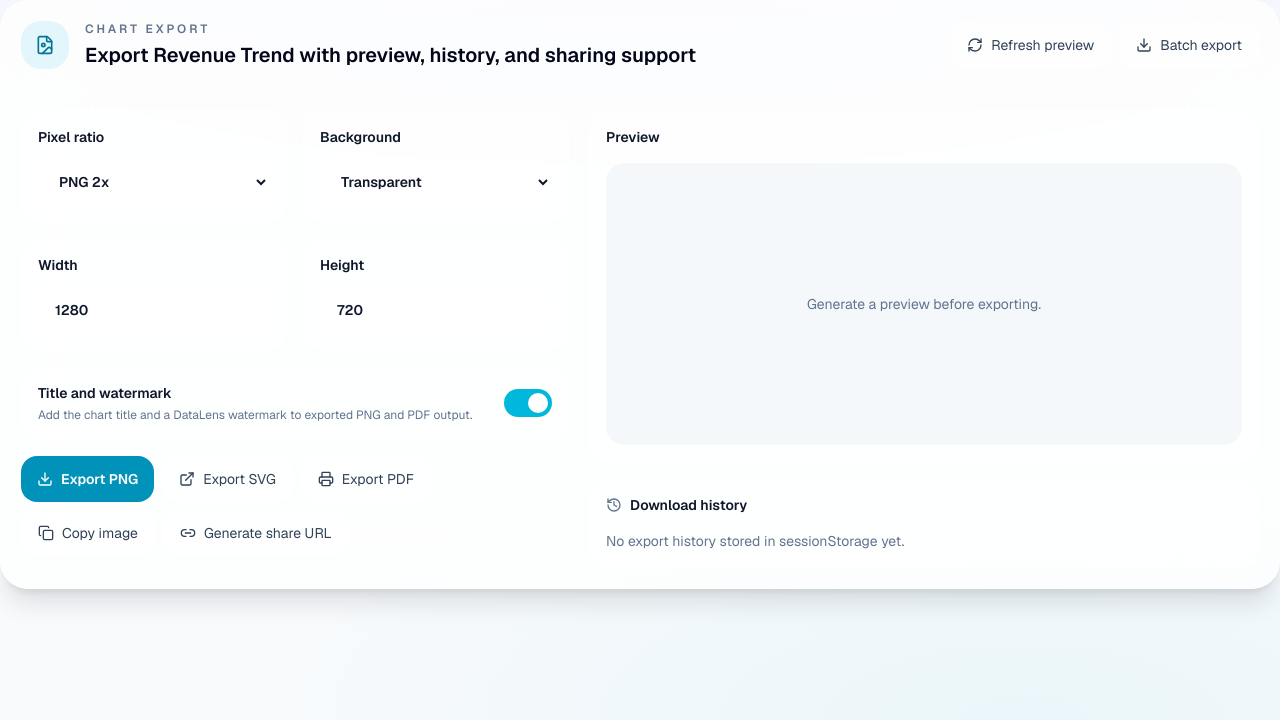
it: ChartExport › generates a share URL from the active chart option
Step 1. Click the button "Generate share URL" → (256, 533), box top-left (163, 510), bottom-right (349, 556)
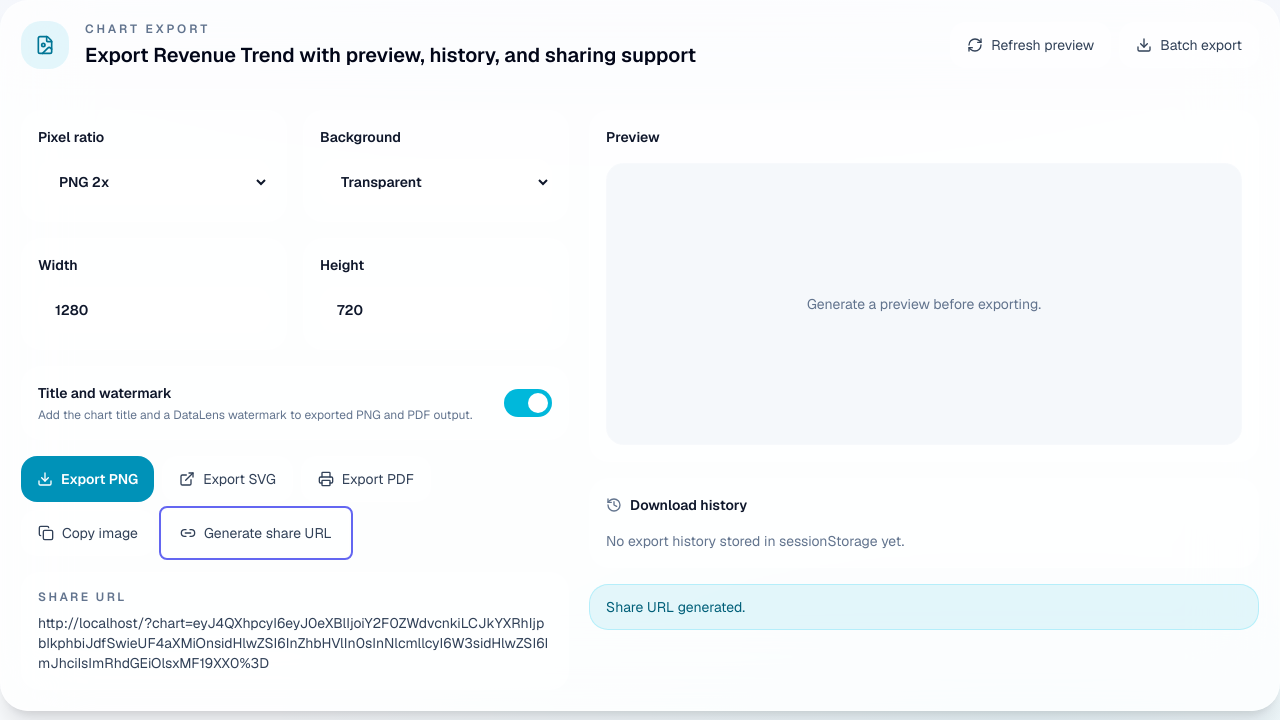
expect the text "Share URL generated." is shown: met, box top-left (589, 584), bottom-right (1259, 630)
expect the text "chart=" is shown: met, box top-left (38, 614), bottom-right (548, 672)
